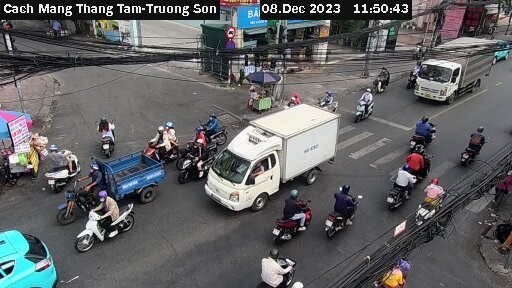motorbike: (73, 201, 137, 251), (266, 199, 321, 248), (82, 108, 124, 157), (248, 250, 302, 288), (42, 143, 83, 191), (142, 119, 185, 162), (324, 192, 365, 237), (410, 185, 450, 228), (379, 165, 417, 210), (188, 111, 232, 148), (353, 88, 387, 127), (406, 117, 446, 149), (461, 132, 492, 168), (372, 67, 402, 98)
truck: (208, 102, 342, 214), (412, 35, 495, 105)
